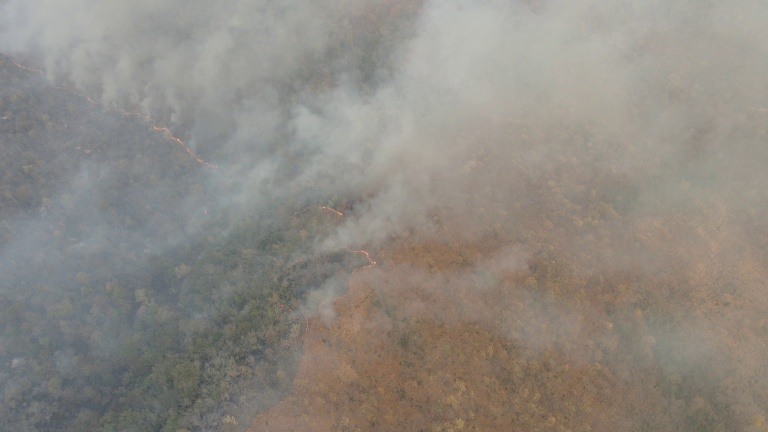fire: (6, 55, 141, 119), (131, 109, 235, 182), (271, 293, 319, 360), (337, 239, 385, 291), (293, 200, 347, 226)
smoke: (317, 1, 755, 250), (6, 1, 337, 180)
